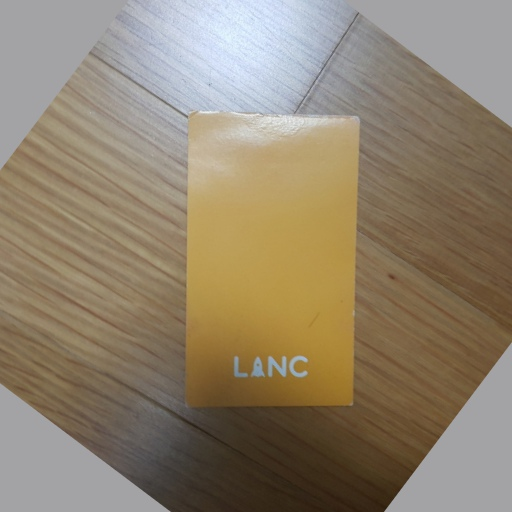Paper_2: (183, 109, 363, 416)
